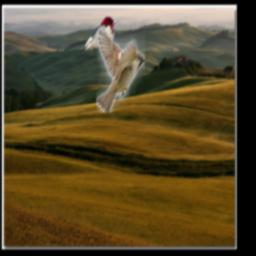Sparrow: (97, 25, 146, 113)
Woodpecker: (77, 16, 120, 51)
